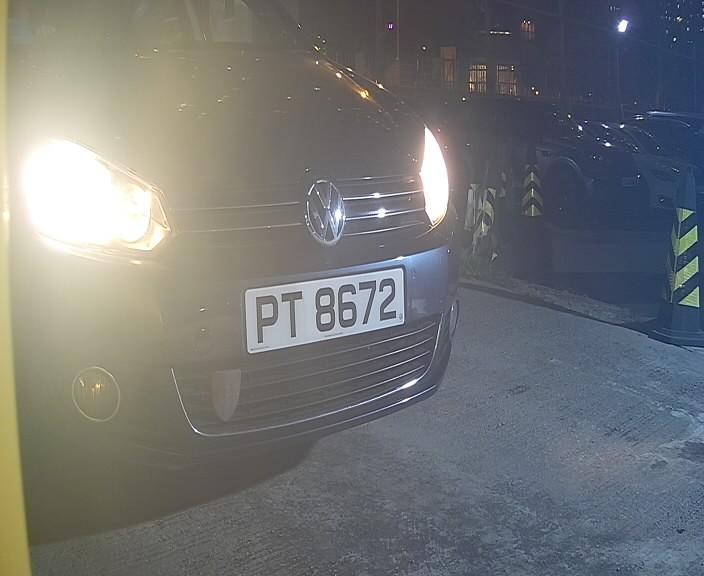Car: (13, 19, 557, 484)
License Plate: (239, 258, 409, 353)
